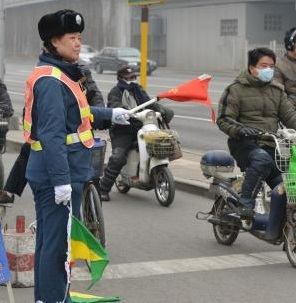person: (21, 6, 114, 303), (218, 43, 290, 239), (99, 60, 158, 205)
